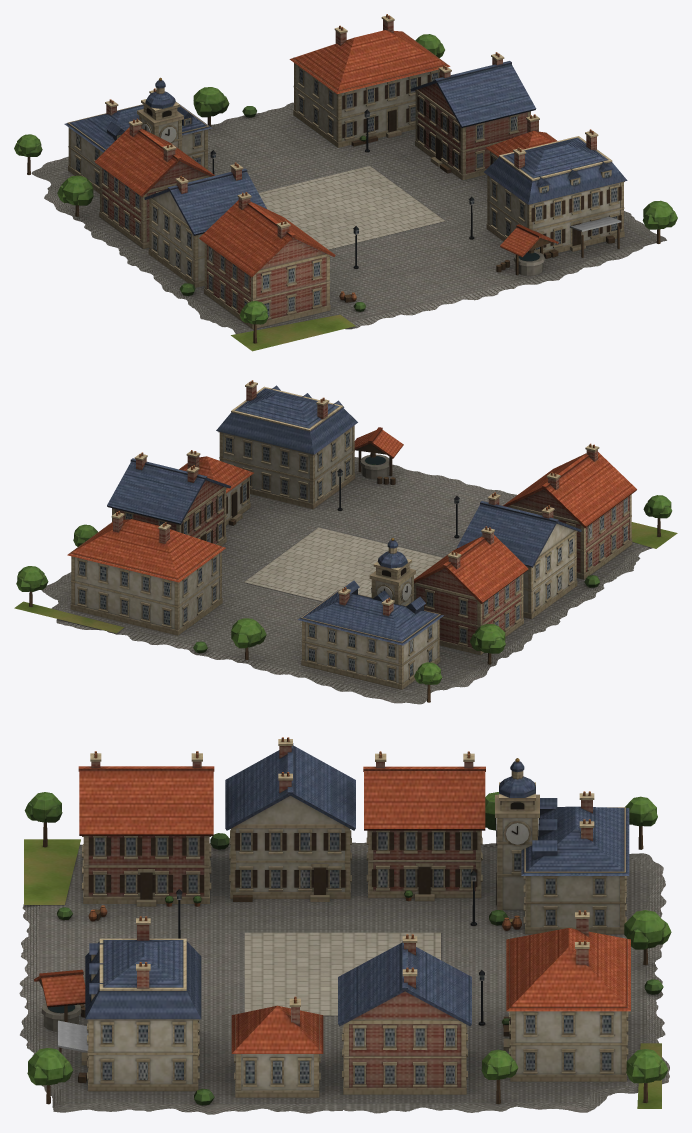
File: gunpowder-town-small-a.glb
3 renders of one model, top to bottom at view 1: azimuth 30°, elevation 25°; view 2: azimuth 150°, elevation 25°; view 3: azimuth 270°, elevation 25°, orthographic. The views are drawn at different scales.
Parts seen in each view (by area): view 1: LOD0; view 2: LOD0; view 3: LOD0.
Part boxes in pixels (box(x1,y1,x2,y2)): LOD0: box(14, 14, 677, 351); LOD0: box(14, 380, 677, 704); LOD0: box(19, 737, 671, 1114).
Size of what is drawn, in the model's own units: 4.04 by 1 by 4.06.
Materials: 3 (3 with a texture image).
